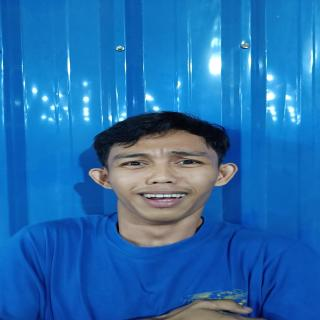Takut: (92, 123, 234, 230)
